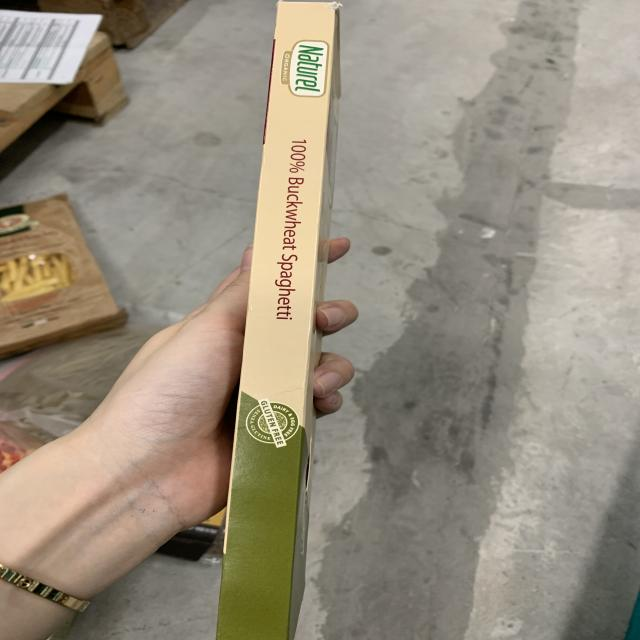object_name: (252, 0, 308, 640)
